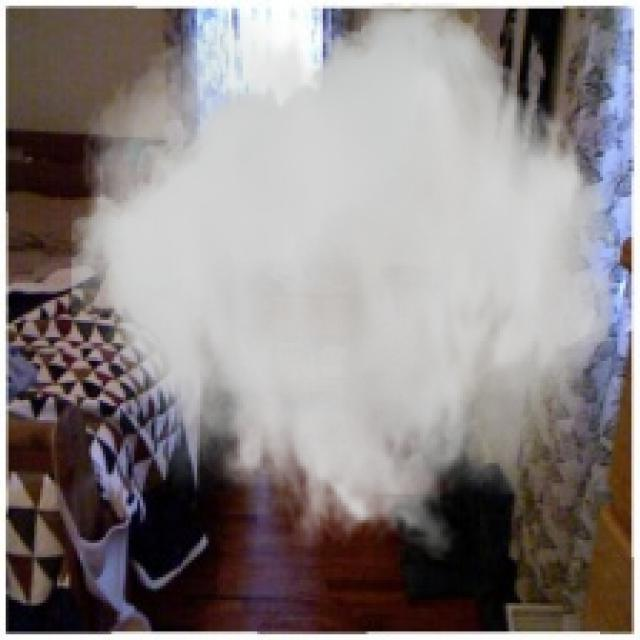Smoke: (71, 3, 623, 563)
